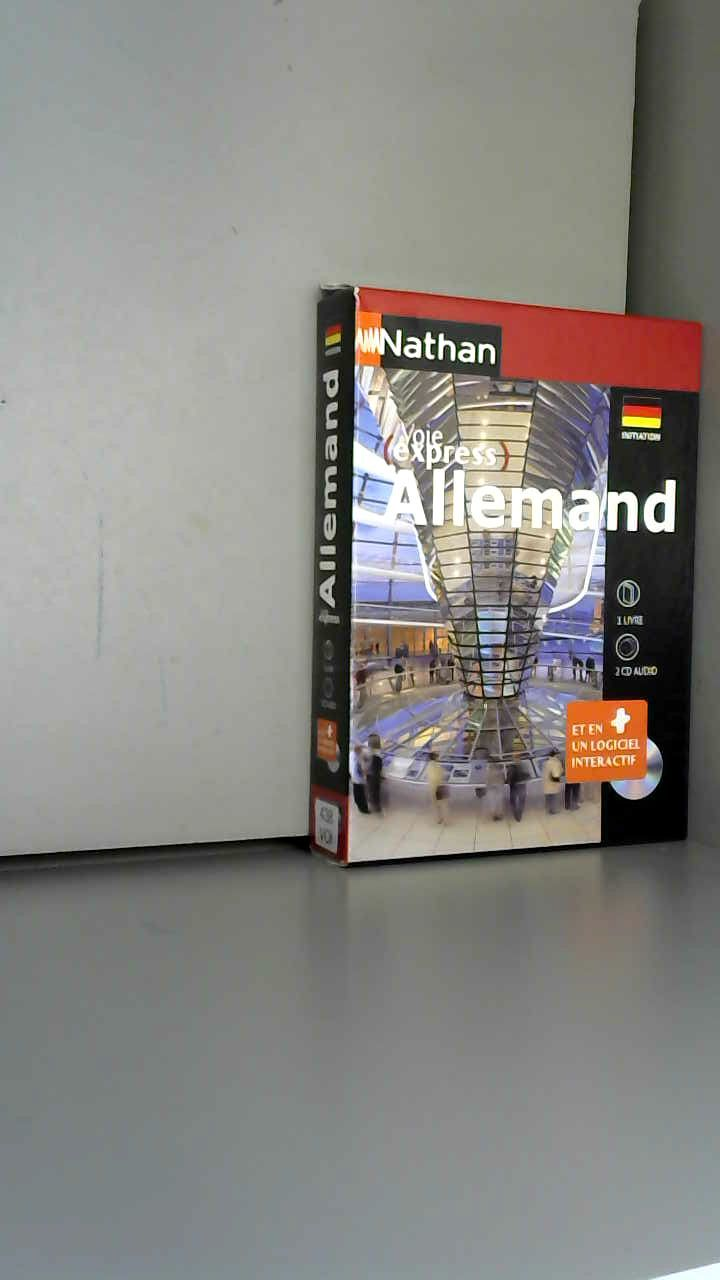book: (280, 260, 718, 892)
